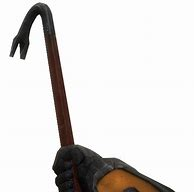crowbar: (8, 1, 91, 191)
